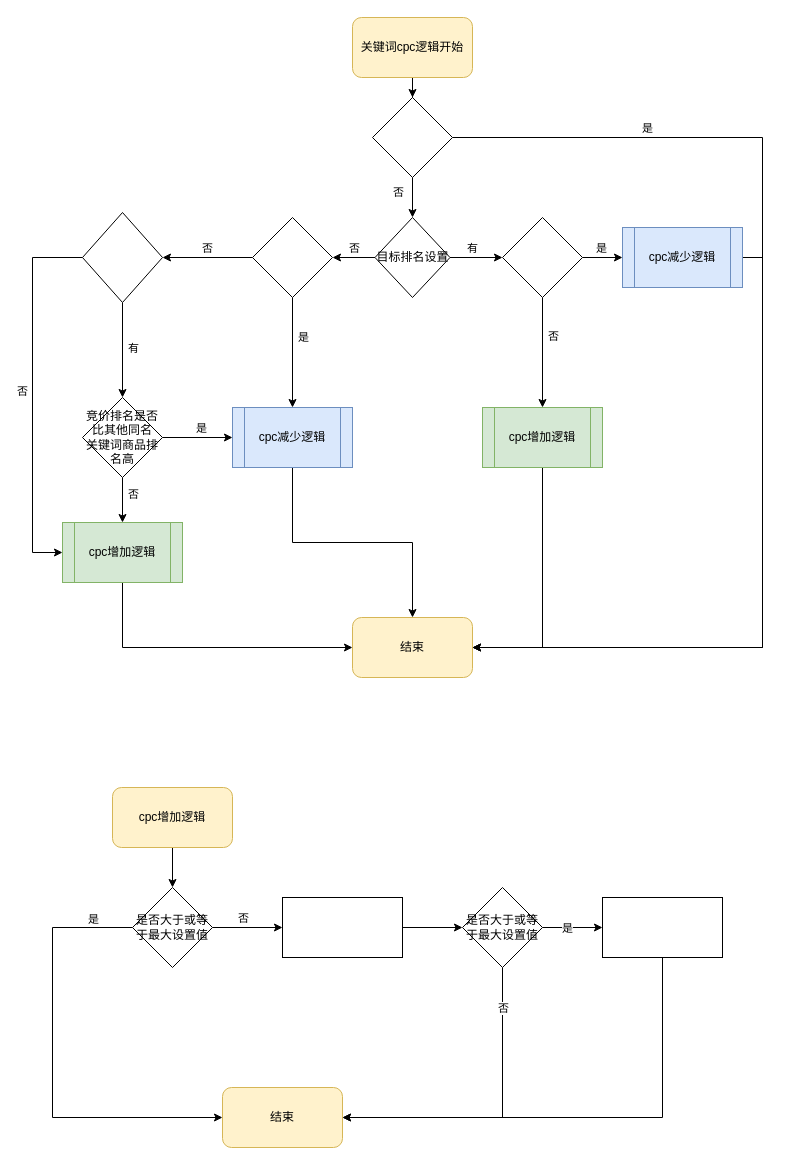
The diagram is 788 pixels wide and 1165 high, and some of its shapes have lost their labels. Each missing label, with the centre of its shape:
"cpc修改为“设置的最大cpc值”" goes at [662,927].
"cpc增加指定值" goes at [342,927].
"cpc竞价排名是否第1" goes at [292,257].
"同名关键词商品是否有目标排名设置" goes at [122,257].
"排名竞价开启" goes at [412,137].
"达到目标排名否" goes at [542,257].
